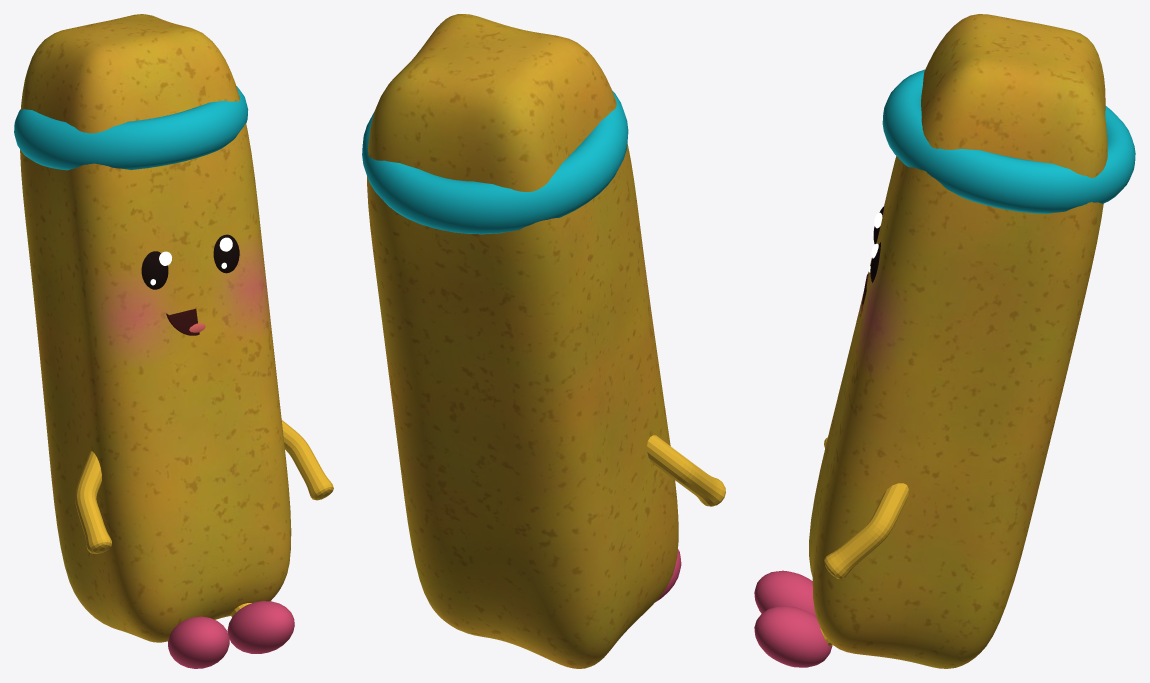
The model's file is potato-fry.glb.
3 renders of one model, left to right at view 1: azimuth 30°, elevation 25°; view 2: azimuth 150°, elevation 25°; view 3: azimuth 270°, elevation 25°, orthographic. The views are drawn at different scales.
Parts seen in each view (by area): view 1: Body, Sweatband, Foot_L, Foot_R, Arm_R, Arm_L, Pupil_R, Pupil_L, Mouth; view 2: Body, Sweatband, Arm_R; view 3: Body, Sweatband, Foot_L, Arm_L, Foot_R.
Part boxes in pixels (left/top/right/bottom): Body: left=20, top=14, right=291, bottom=642; Sweatband: left=14, top=86, right=248, bottom=170; Foot_L: left=227, top=601, right=294, bottom=653; Foot_R: left=168, top=616, right=229, bottom=668; Arm_R: left=75, top=451, right=111, bottom=553; Arm_L: left=281, top=420, right=333, bottom=500; Pupil_R: left=141, top=251, right=168, bottom=289; Pupil_L: left=213, top=234, right=239, bottom=273; Mouth: left=166, top=308, right=199, bottom=335; Body: left=367, top=14, right=678, bottom=668; Sweatband: left=362, top=90, right=628, bottom=234; Arm_R: left=647, top=435, right=725, bottom=506; Body: left=809, top=14, right=1107, bottom=668; Sweatband: left=882, top=69, right=1135, bottom=213; Foot_L: left=754, top=606, right=832, bottom=667; Arm_L: left=824, top=483, right=908, bottom=579; Foot_R: left=754, top=570, right=816, bottom=616.
Bounding box in the file's own units: 0.9207 × 2.03 × 1.14.
Materials: 9 (1 with a texture image).
